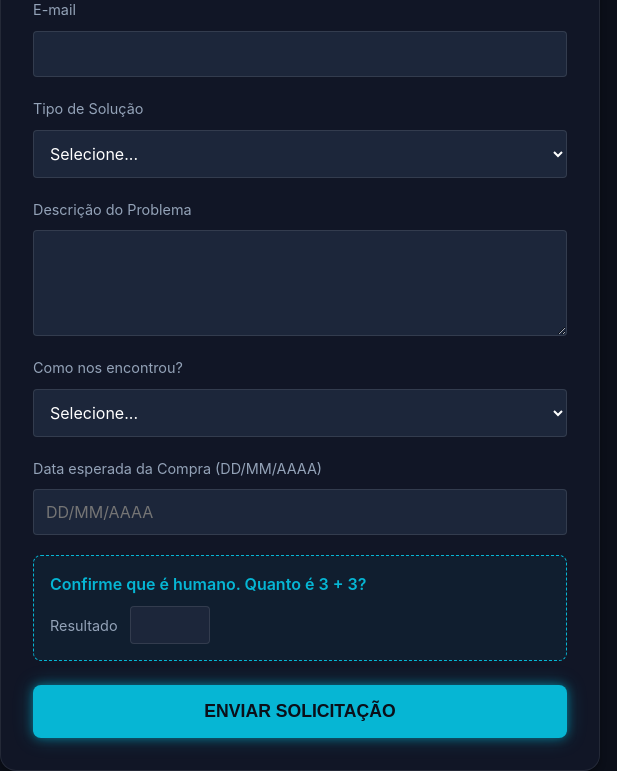
Test: ContactForm Integration › deve exibir erros de validação ao enviar formulário vazio
(page scrolled)
What coordinates should you click on to do the following:
click the button "Enviar Solicitação"
I would click on:
 (300, 712)
Its box is left=33, top=685, right=567, bottom=738.
(page scrolled)
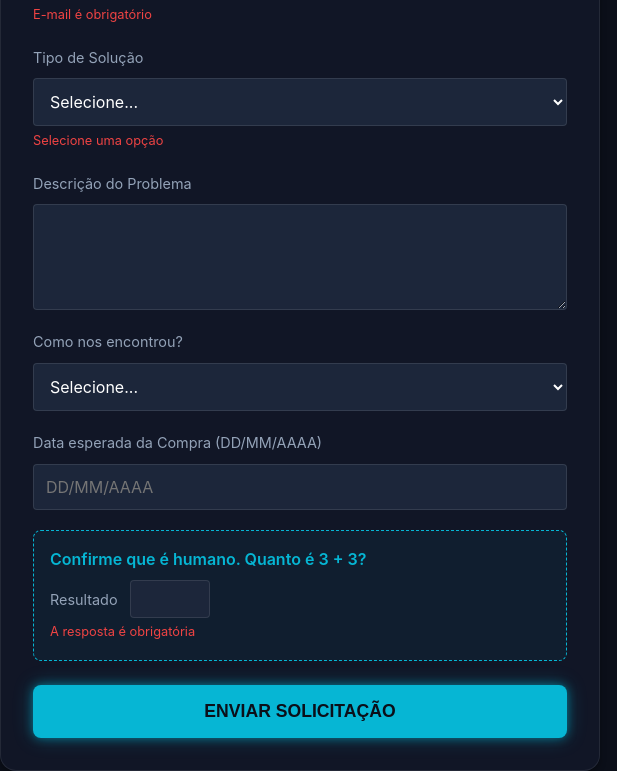
Expected: the text "E-mail é obrigatório" is shown, left=33, top=7, right=152, bottom=22
Expected: the text "A resposta é obrigatória" is shown, left=50, top=624, right=195, bottom=639
